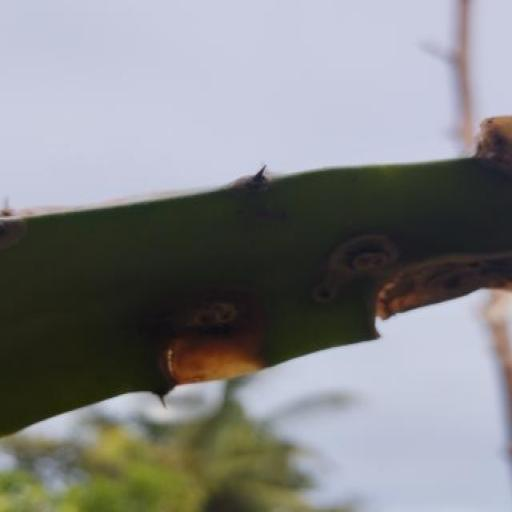stemcanker: (309, 280, 338, 312)
